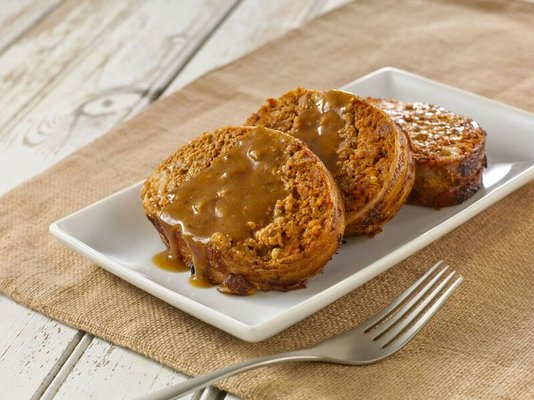burger: (48, 260, 465, 400)
